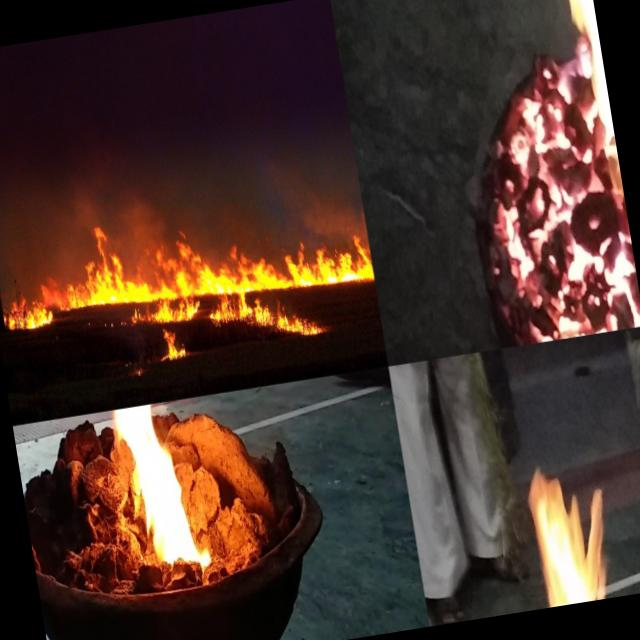fire: (0, 174, 373, 338), (452, 56, 608, 349), (548, 0, 640, 332), (102, 398, 212, 572), (520, 450, 640, 608), (210, 276, 329, 364), (125, 284, 202, 332), (148, 323, 200, 372)
